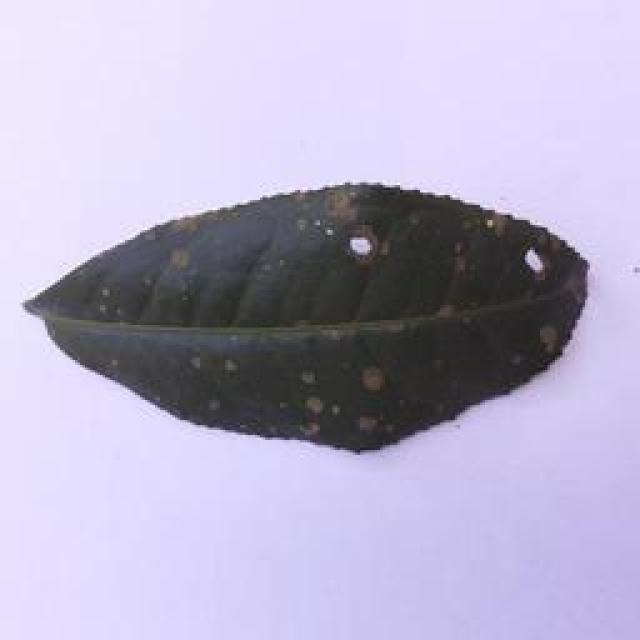Algal Leaf Spot: (10, 174, 597, 461)
